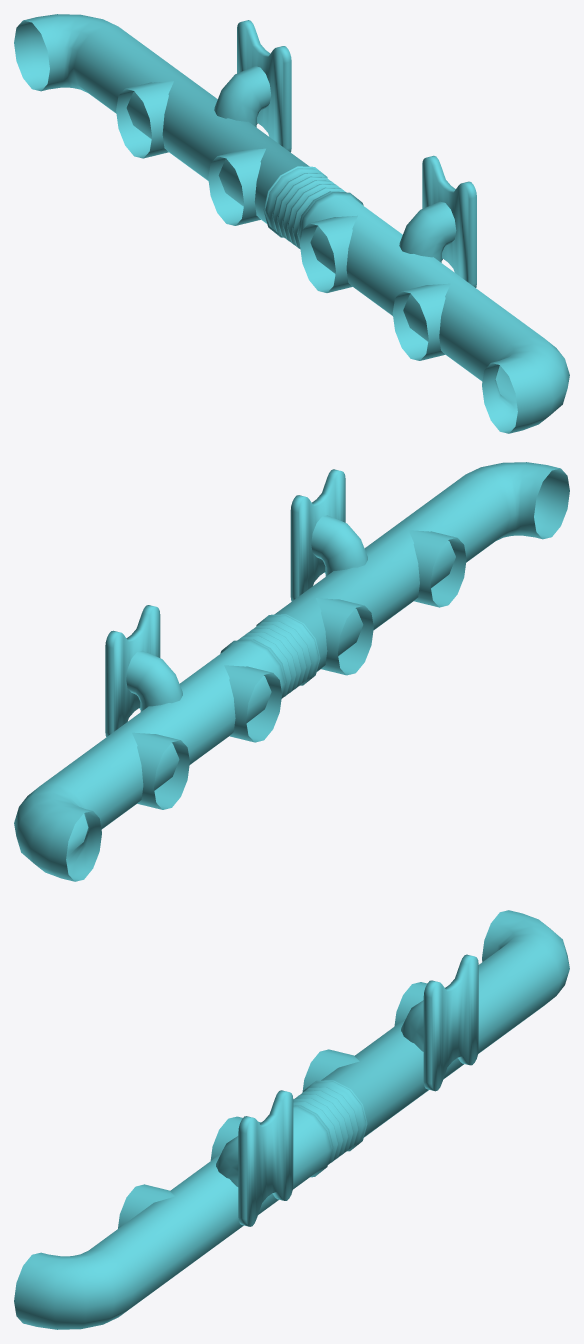
The model's file is Intake_Air_Temperature.gltf.
3 views of the same model, one above another, from view 1: azimuth 30°, elevation 25°; view 2: azimuth 150°, elevation 25°; view 3: azimuth 330°, elevation 25° (orthographic).
Parts seen in each view (by area): view 1: Intake_Air_Temperature; view 2: Intake_Air_Temperature; view 3: Intake_Air_Temperature.
Boxes of the visible parts, x1=… form: Intake_Air_Temperature: x1=14, y1=14, x2=569, y2=433; Intake_Air_Temperature: x1=14, y1=462, x2=569, y2=881; Intake_Air_Temperature: x1=14, y1=910, x2=569, y2=1329.
Bounding box in the file's own units: 0.0839 × 0.1152 × 0.7644.
